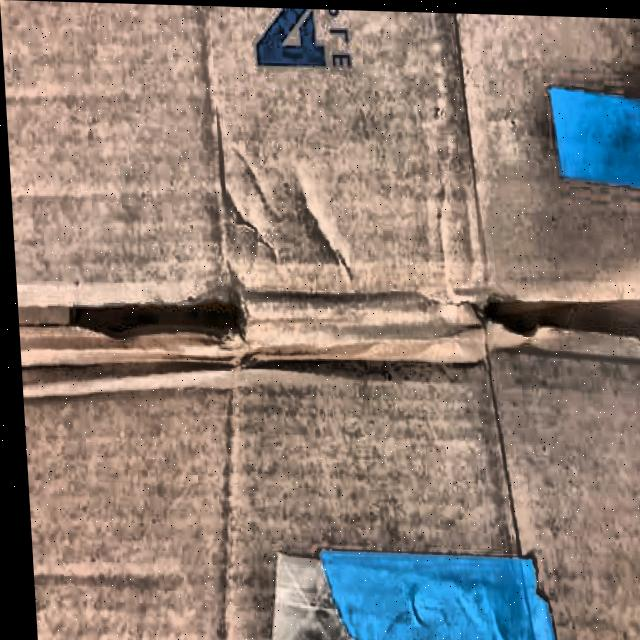cardboard: (262, 549, 562, 640)
